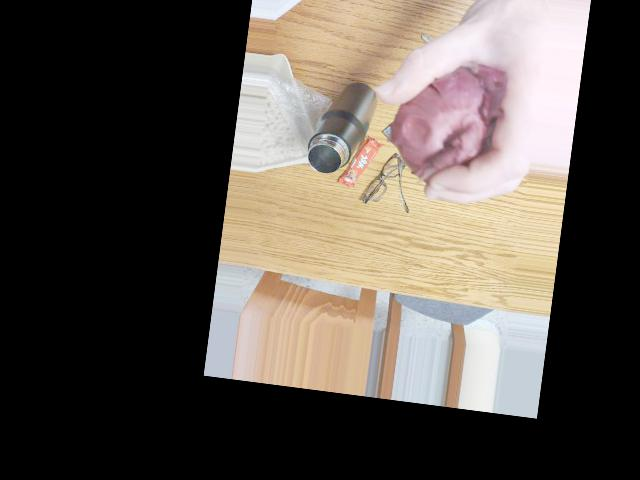onion: (408, 75, 500, 170)
